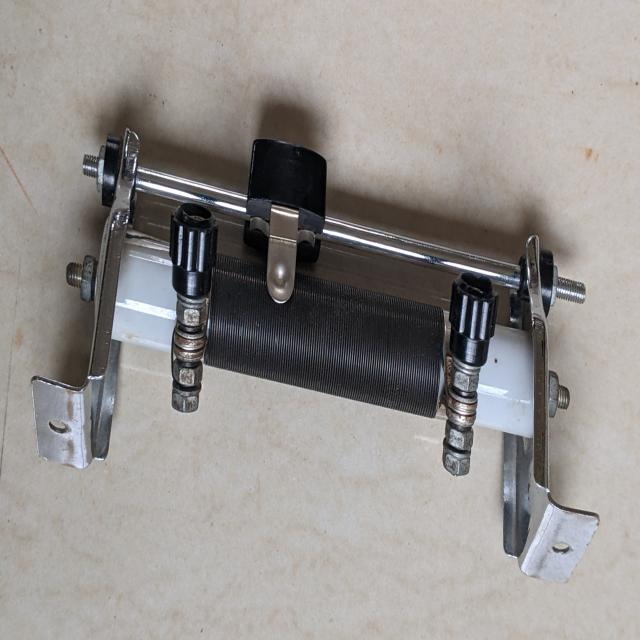Rheostat: (12, 88, 614, 615)
